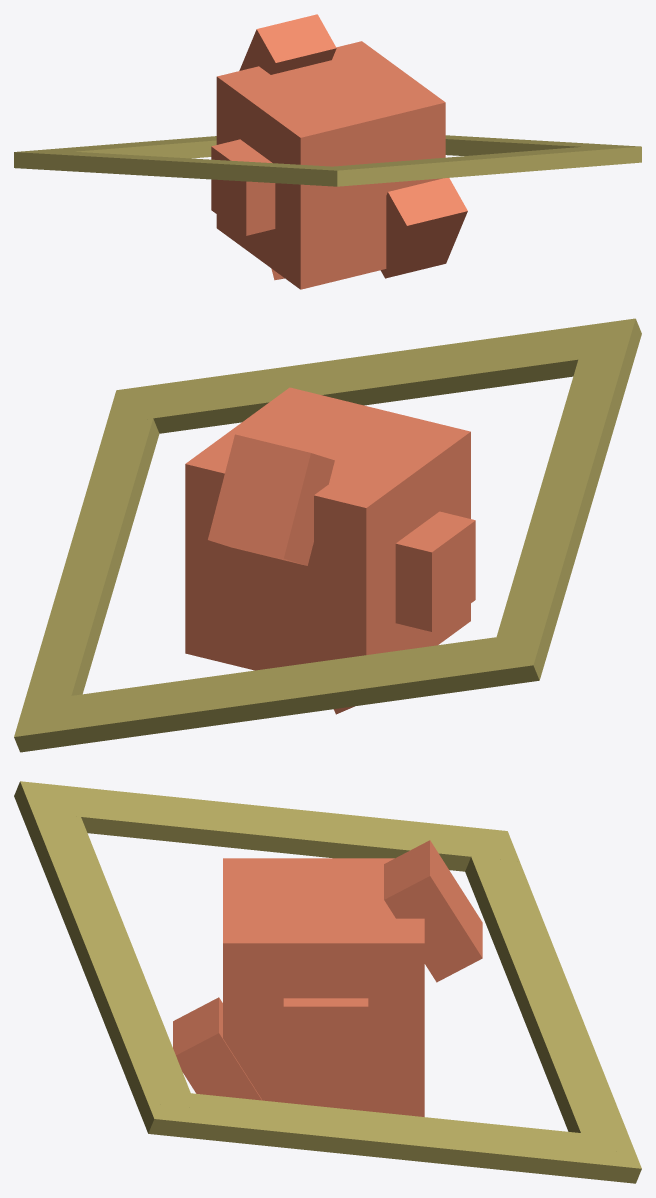
File: planet_cuboidring_peach.glb
3 views of the same model, one above another, from view 1: azimuth 30°, elevation 25°; view 2: azimuth 150°, elevation 25°; view 3: azimuth 270°, elevation 25° (orthographic). The views are drawn at different scales.
Parts seen in each view (by area): view 1: block (×8); view 2: block (×7); view 3: block (×8).
Part boxes in pixels (box(x1,y1,x2,y2)): block (×8): box(14, 14, 641, 289); block (×7): box(14, 318, 641, 752); block (×8): box(14, 781, 641, 1183).
Size of the model in its own units: 3.33 by 1.55 by 3.11.
